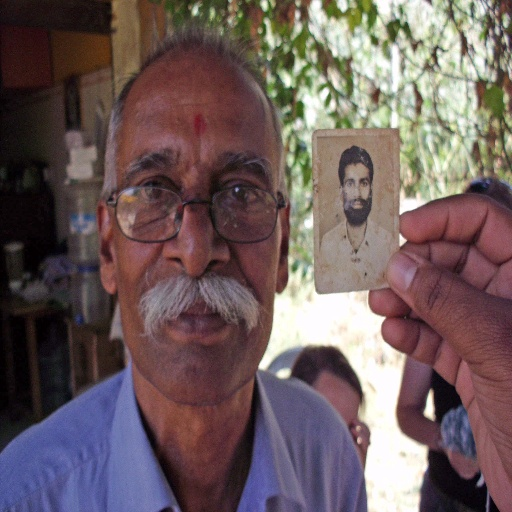hand: (363, 164, 509, 490), (445, 448, 479, 480), (349, 417, 370, 466)
